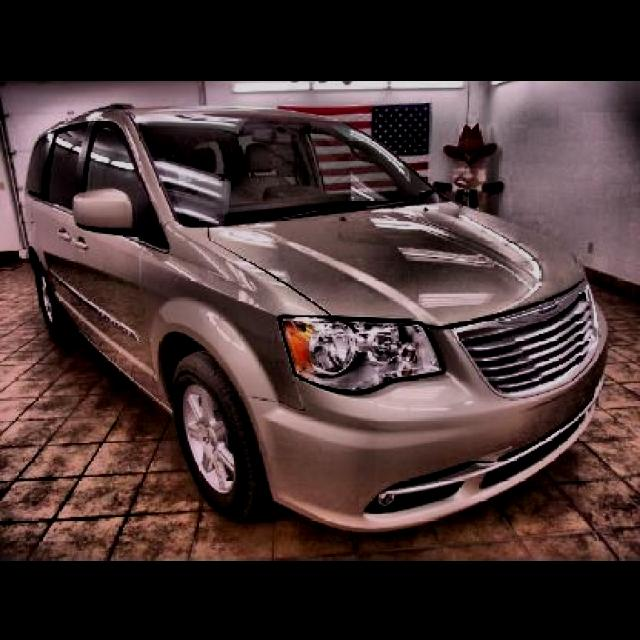silver: (24, 108, 609, 530)
